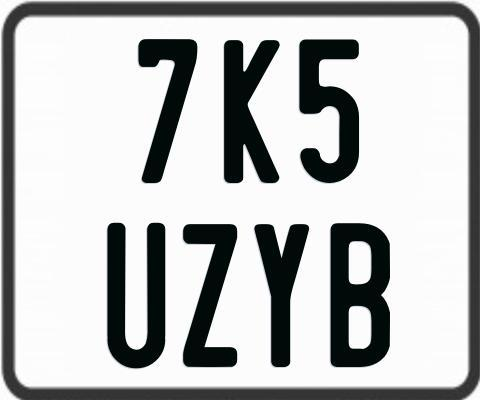5: (297, 39, 359, 186)
7: (138, 37, 198, 181)
B: (331, 223, 391, 369)
K: (222, 38, 279, 184)
U: (107, 220, 170, 365)
Y: (252, 224, 307, 371)
Z: (182, 224, 239, 367)
